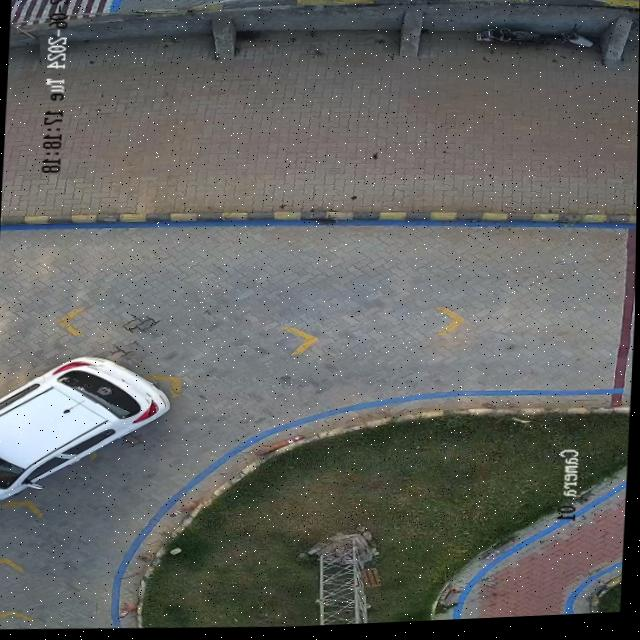car: (0, 356, 172, 501)
